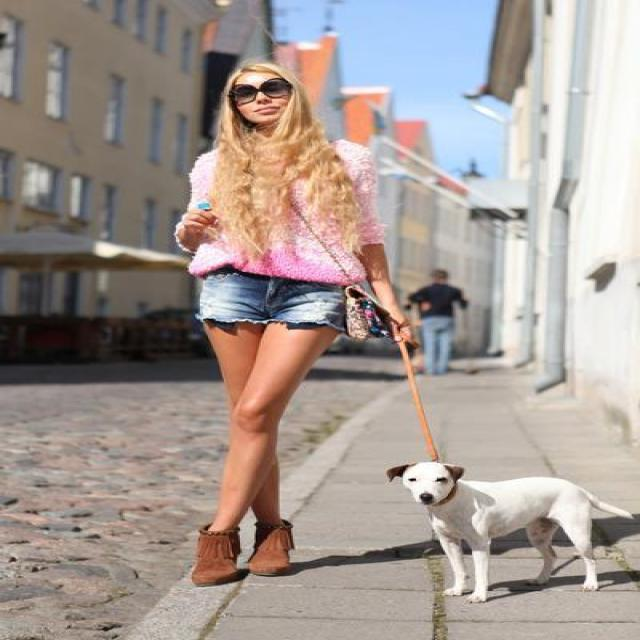bag: (326, 295, 397, 338)
jacket: (174, 141, 397, 287)
shoe: (192, 515, 293, 586)
shorts: (190, 264, 373, 344)
sunglass: (234, 76, 286, 106)
